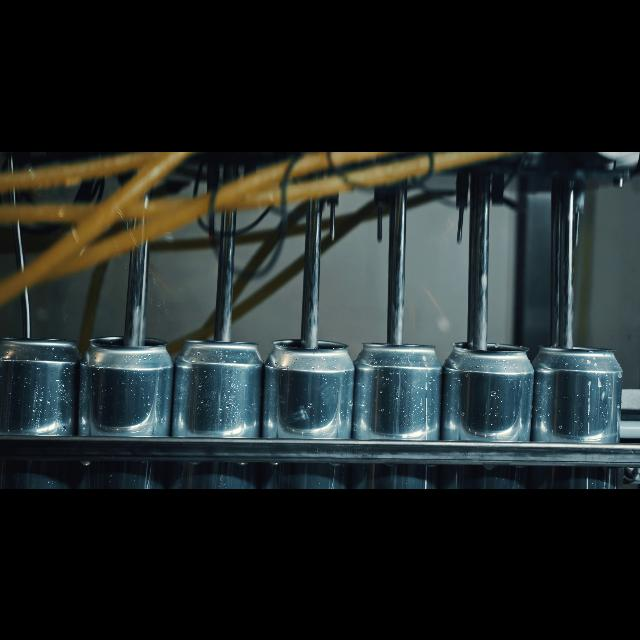empty: (177, 326, 266, 488), (448, 326, 536, 488), (88, 329, 172, 489), (269, 334, 355, 488), (360, 330, 442, 488), (541, 328, 621, 488), (2, 330, 80, 488)
